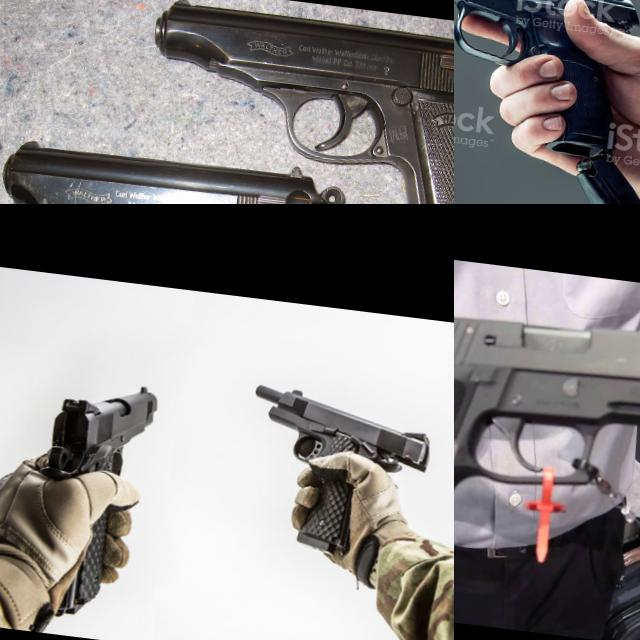handgun: (454, 279, 640, 640), (125, 0, 454, 204), (0, 127, 390, 204), (454, 0, 640, 153), (242, 380, 440, 486), (32, 371, 164, 495)
